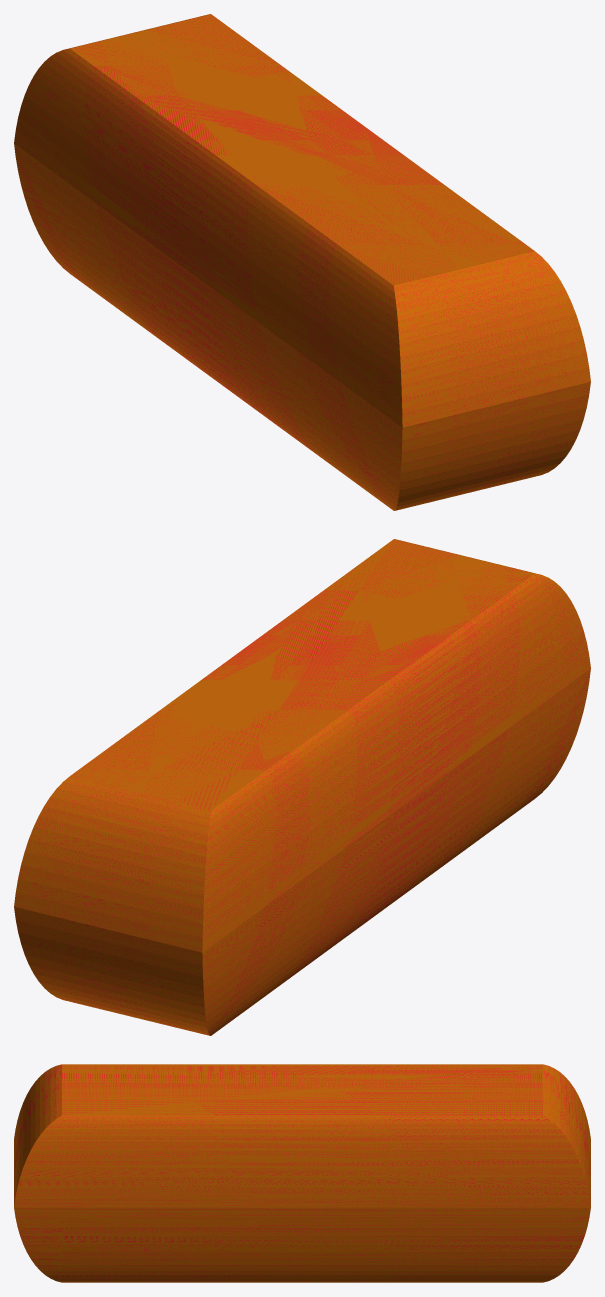
The model's file is PelletFacility-simple.dae.
The picture shows the model from 3 angles, top to bottom: view 1: azimuth 30°, elevation 25°; view 2: azimuth 150°, elevation 25°; view 3: azimuth 270°, elevation 25°; orthographic projection. The views are drawn at different scales.
Parts seen in each view (by area): view 1: group_0; view 2: group_0; view 3: group_0.
Boxes of the visible parts, x1,y1,x2,y2 form: group_0: [14, 14, 590, 510]; group_0: [14, 539, 590, 1035]; group_0: [14, 1064, 590, 1282].
Bounding box in the file's own units: 739 × 2641 × 845.
